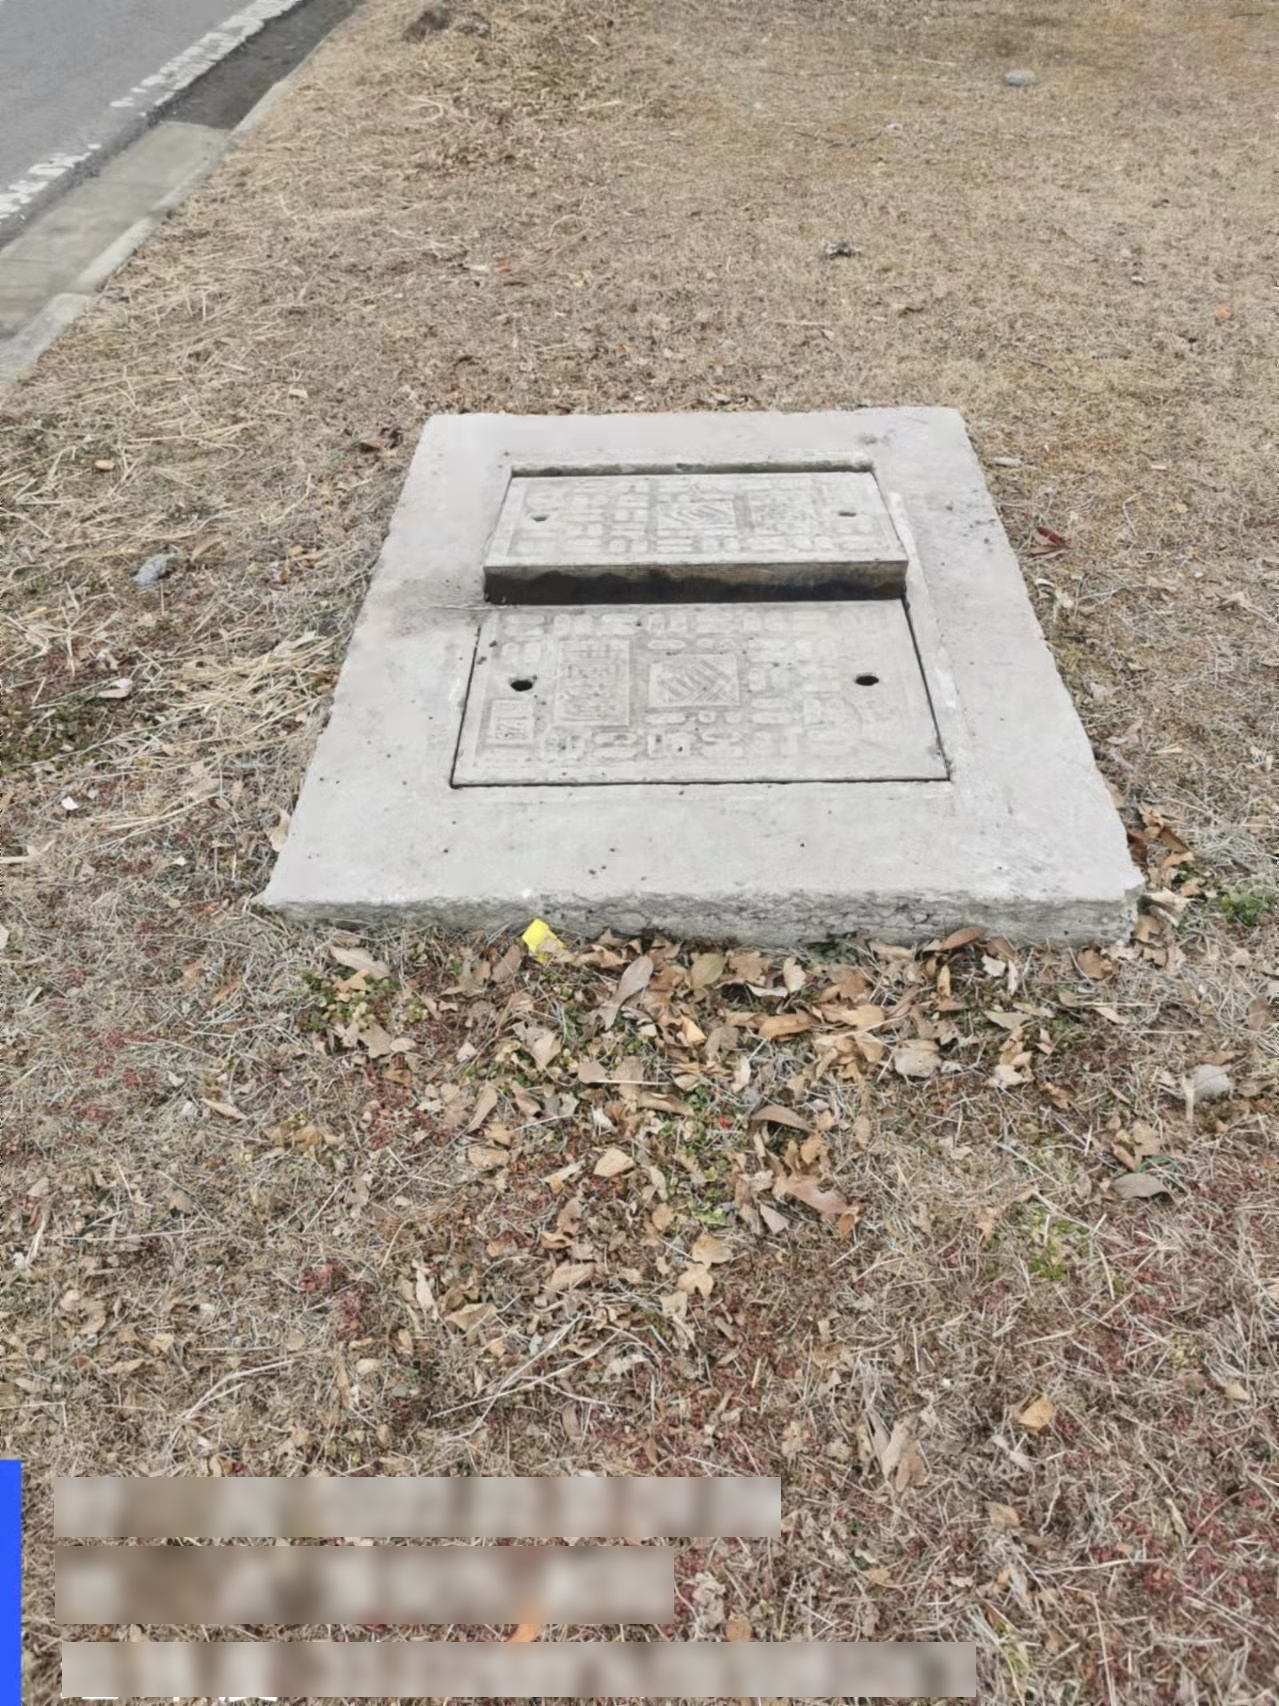uncovered: (425, 455, 967, 803)
